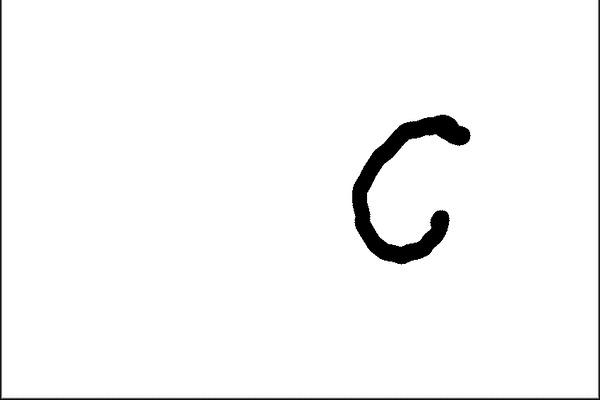C: (345, 107, 472, 269)
